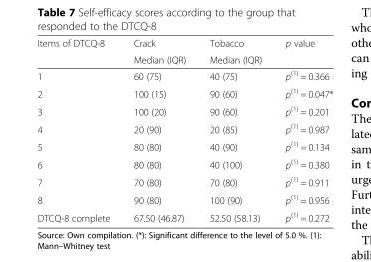table: (36, 37, 332, 223)
table column: (36, 37, 121, 223), (121, 37, 197, 223), (197, 37, 273, 223), (273, 37, 332, 223)
table column header: (36, 37, 332, 66)
table row: (36, 83, 332, 101), (36, 101, 332, 119), (36, 119, 332, 137), (36, 154, 332, 172), (36, 172, 332, 190), (36, 66, 332, 83), (36, 137, 332, 154), (36, 190, 332, 207), (36, 50, 332, 66), (36, 207, 332, 223), (36, 37, 332, 50)
table spanning cell: (36, 37, 121, 66), (121, 37, 197, 66), (197, 37, 273, 66), (273, 37, 332, 66)
